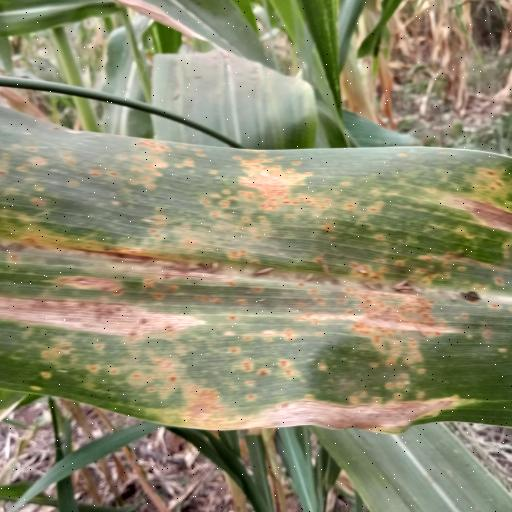Corn_Rust: (0, 101, 512, 444)
